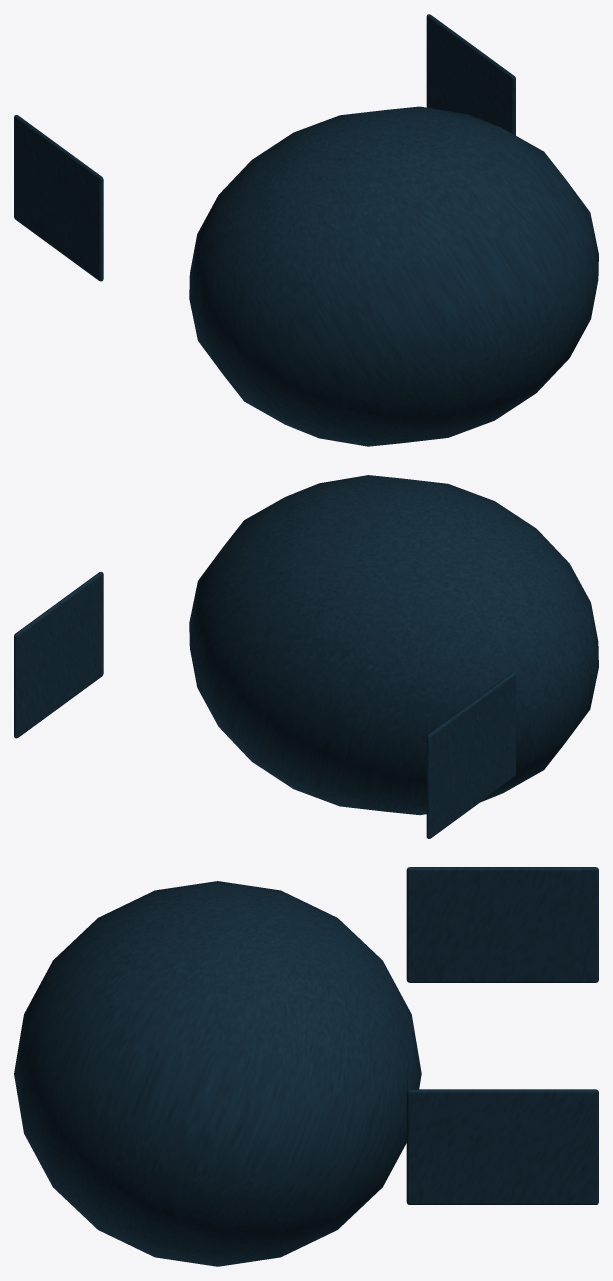
3 views of the same model, one above another, from view 1: azimuth 30°, elevation 25°; view 2: azimuth 150°, elevation 25°; view 3: azimuth 270°, elevation 25° (orthographic). The views are drawn at different scales.
Size of the model in its own units: 2.3 by 1.58 by 2.52.
Materials: 1 (1 with a texture image).
